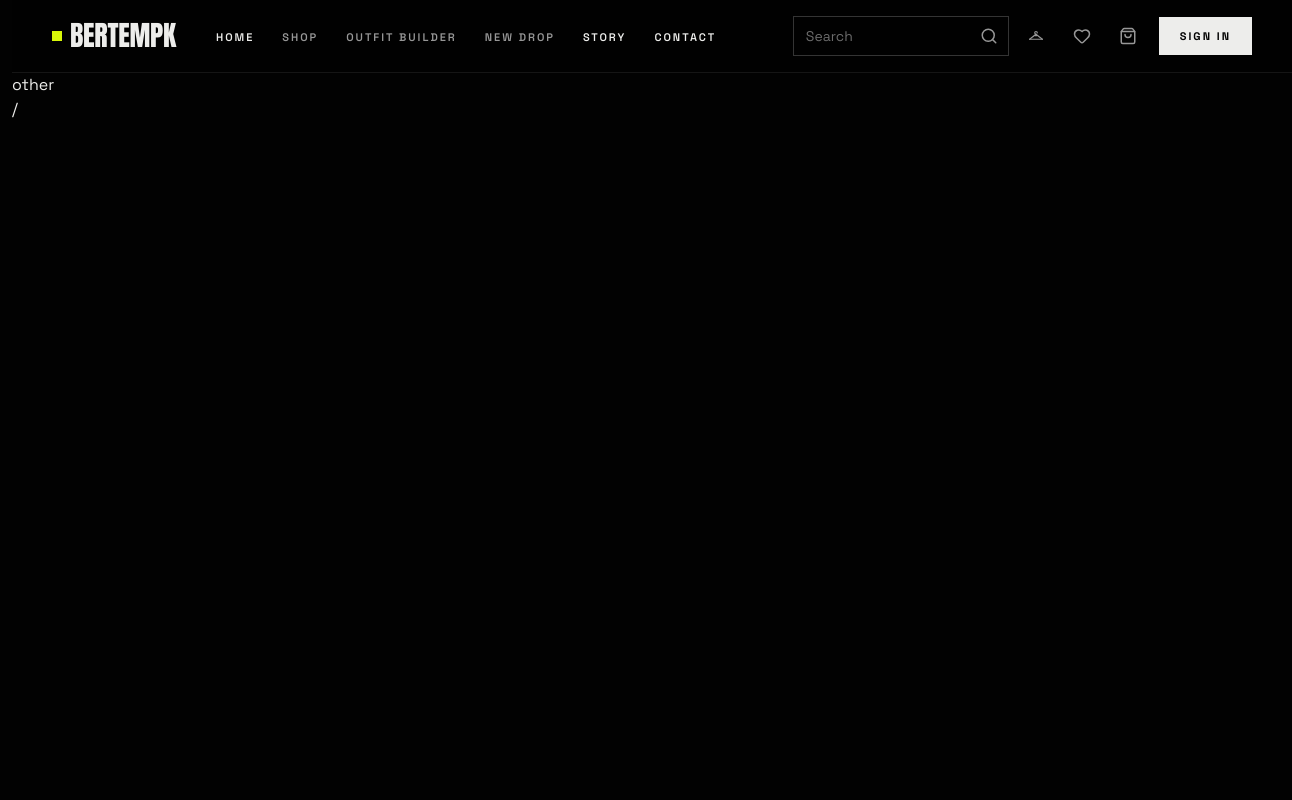
Shop + Navbar search › navigates from the navbar search box
Type "hoodie" into the search field named "Search products" at (882,36), box left=794, top=18, right=970, bottom=54
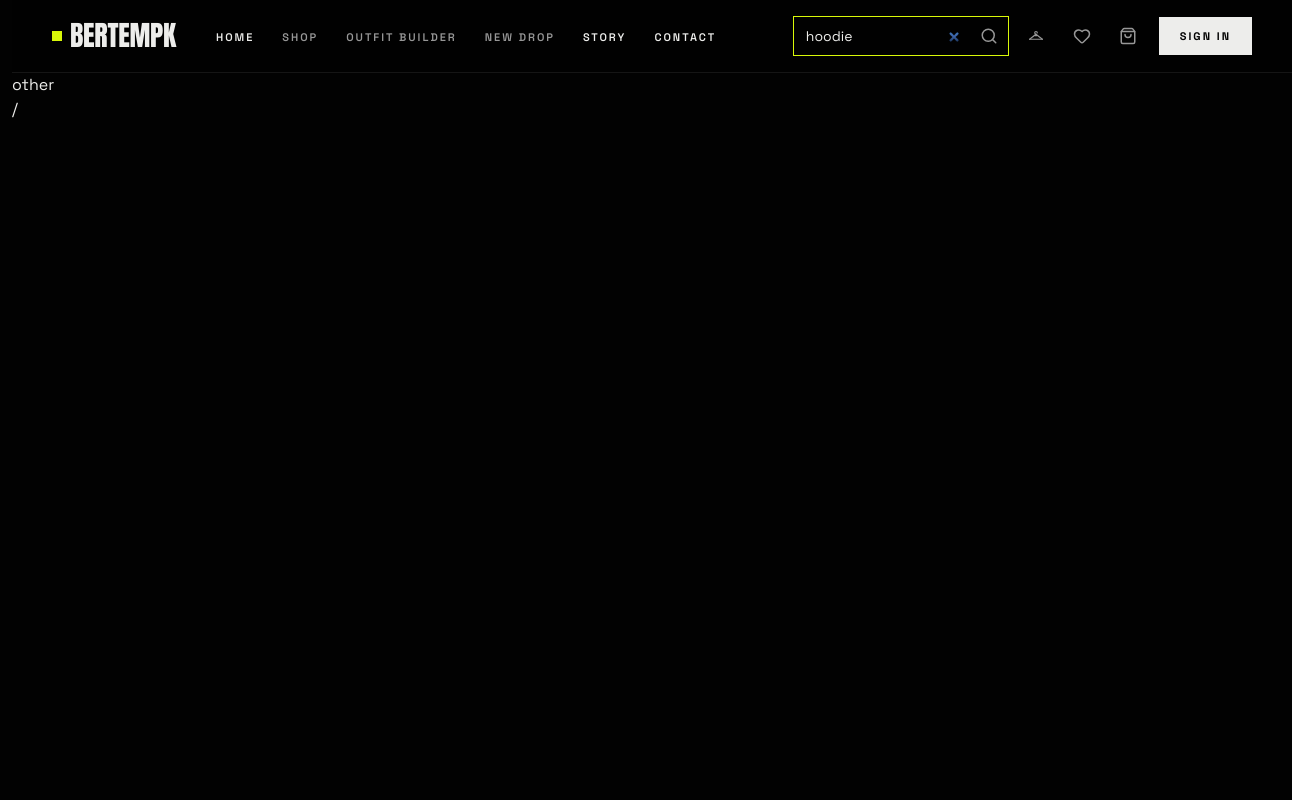
Press Enter
(page scrolled)
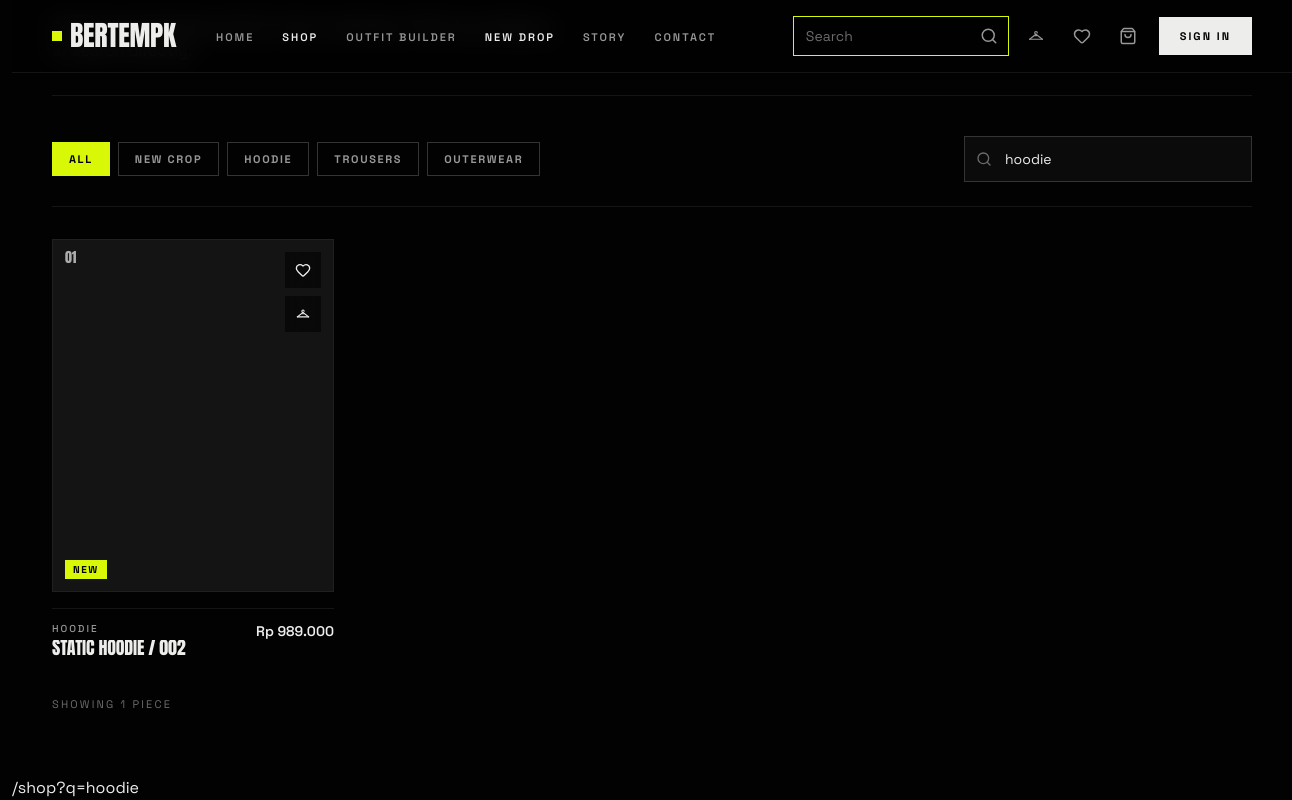
expect the text with test id "location" reads "/shop?q=hoodie": met, box left=12, top=777, right=139, bottom=798
